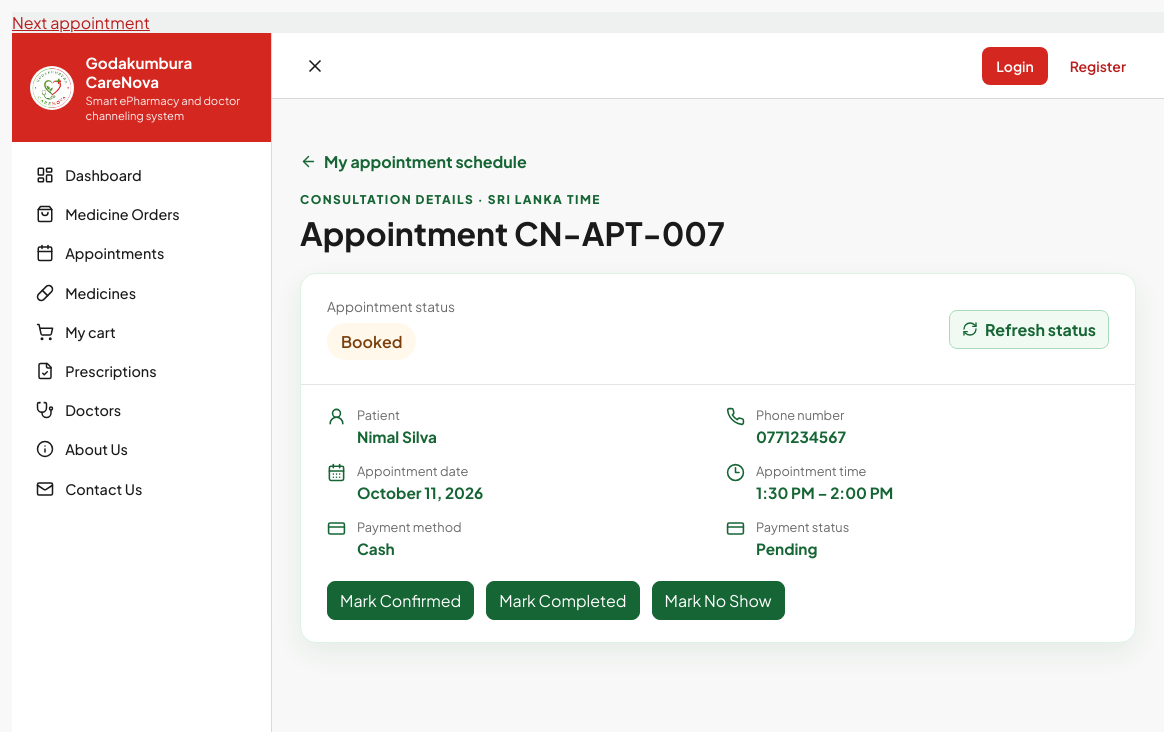
confirms status updates and refreshes the persisted appointment
Click the button "Mark Completed".
click(563, 601)  # box [486, 581, 640, 620]
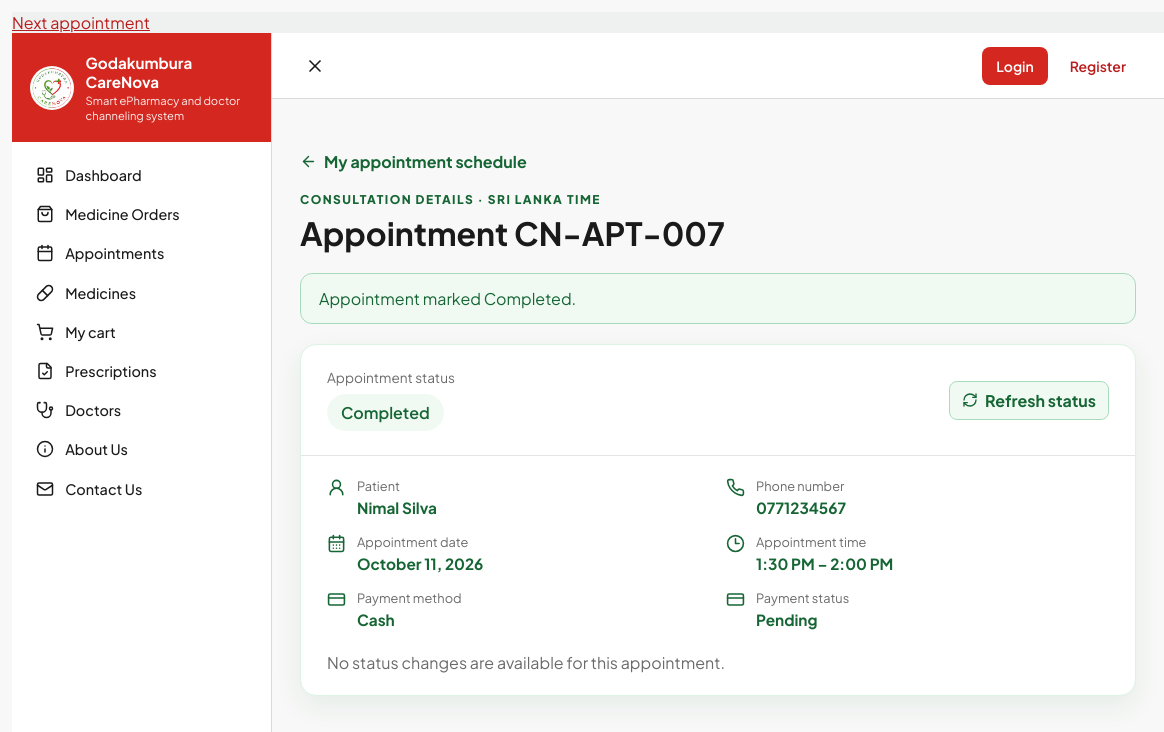
Expected: the text "Nimal Silva" is shown, [357, 498, 437, 517]
Result: the message reads "Appointment marked Completed." at [319, 288, 576, 309]
Result: the button "Mark Completed" is gone
